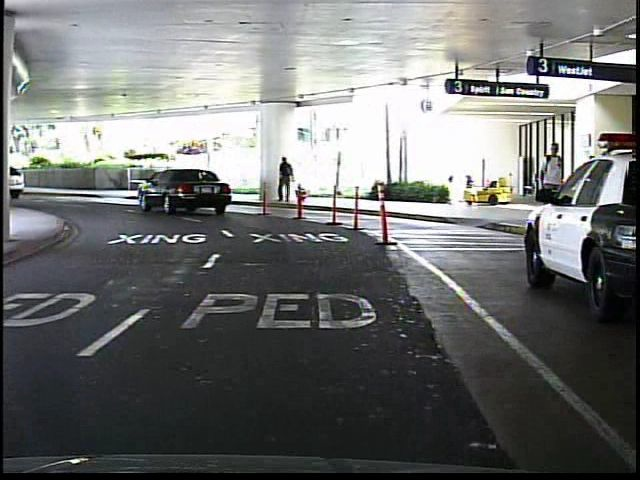person: (535, 139, 566, 235), (272, 157, 300, 209)
